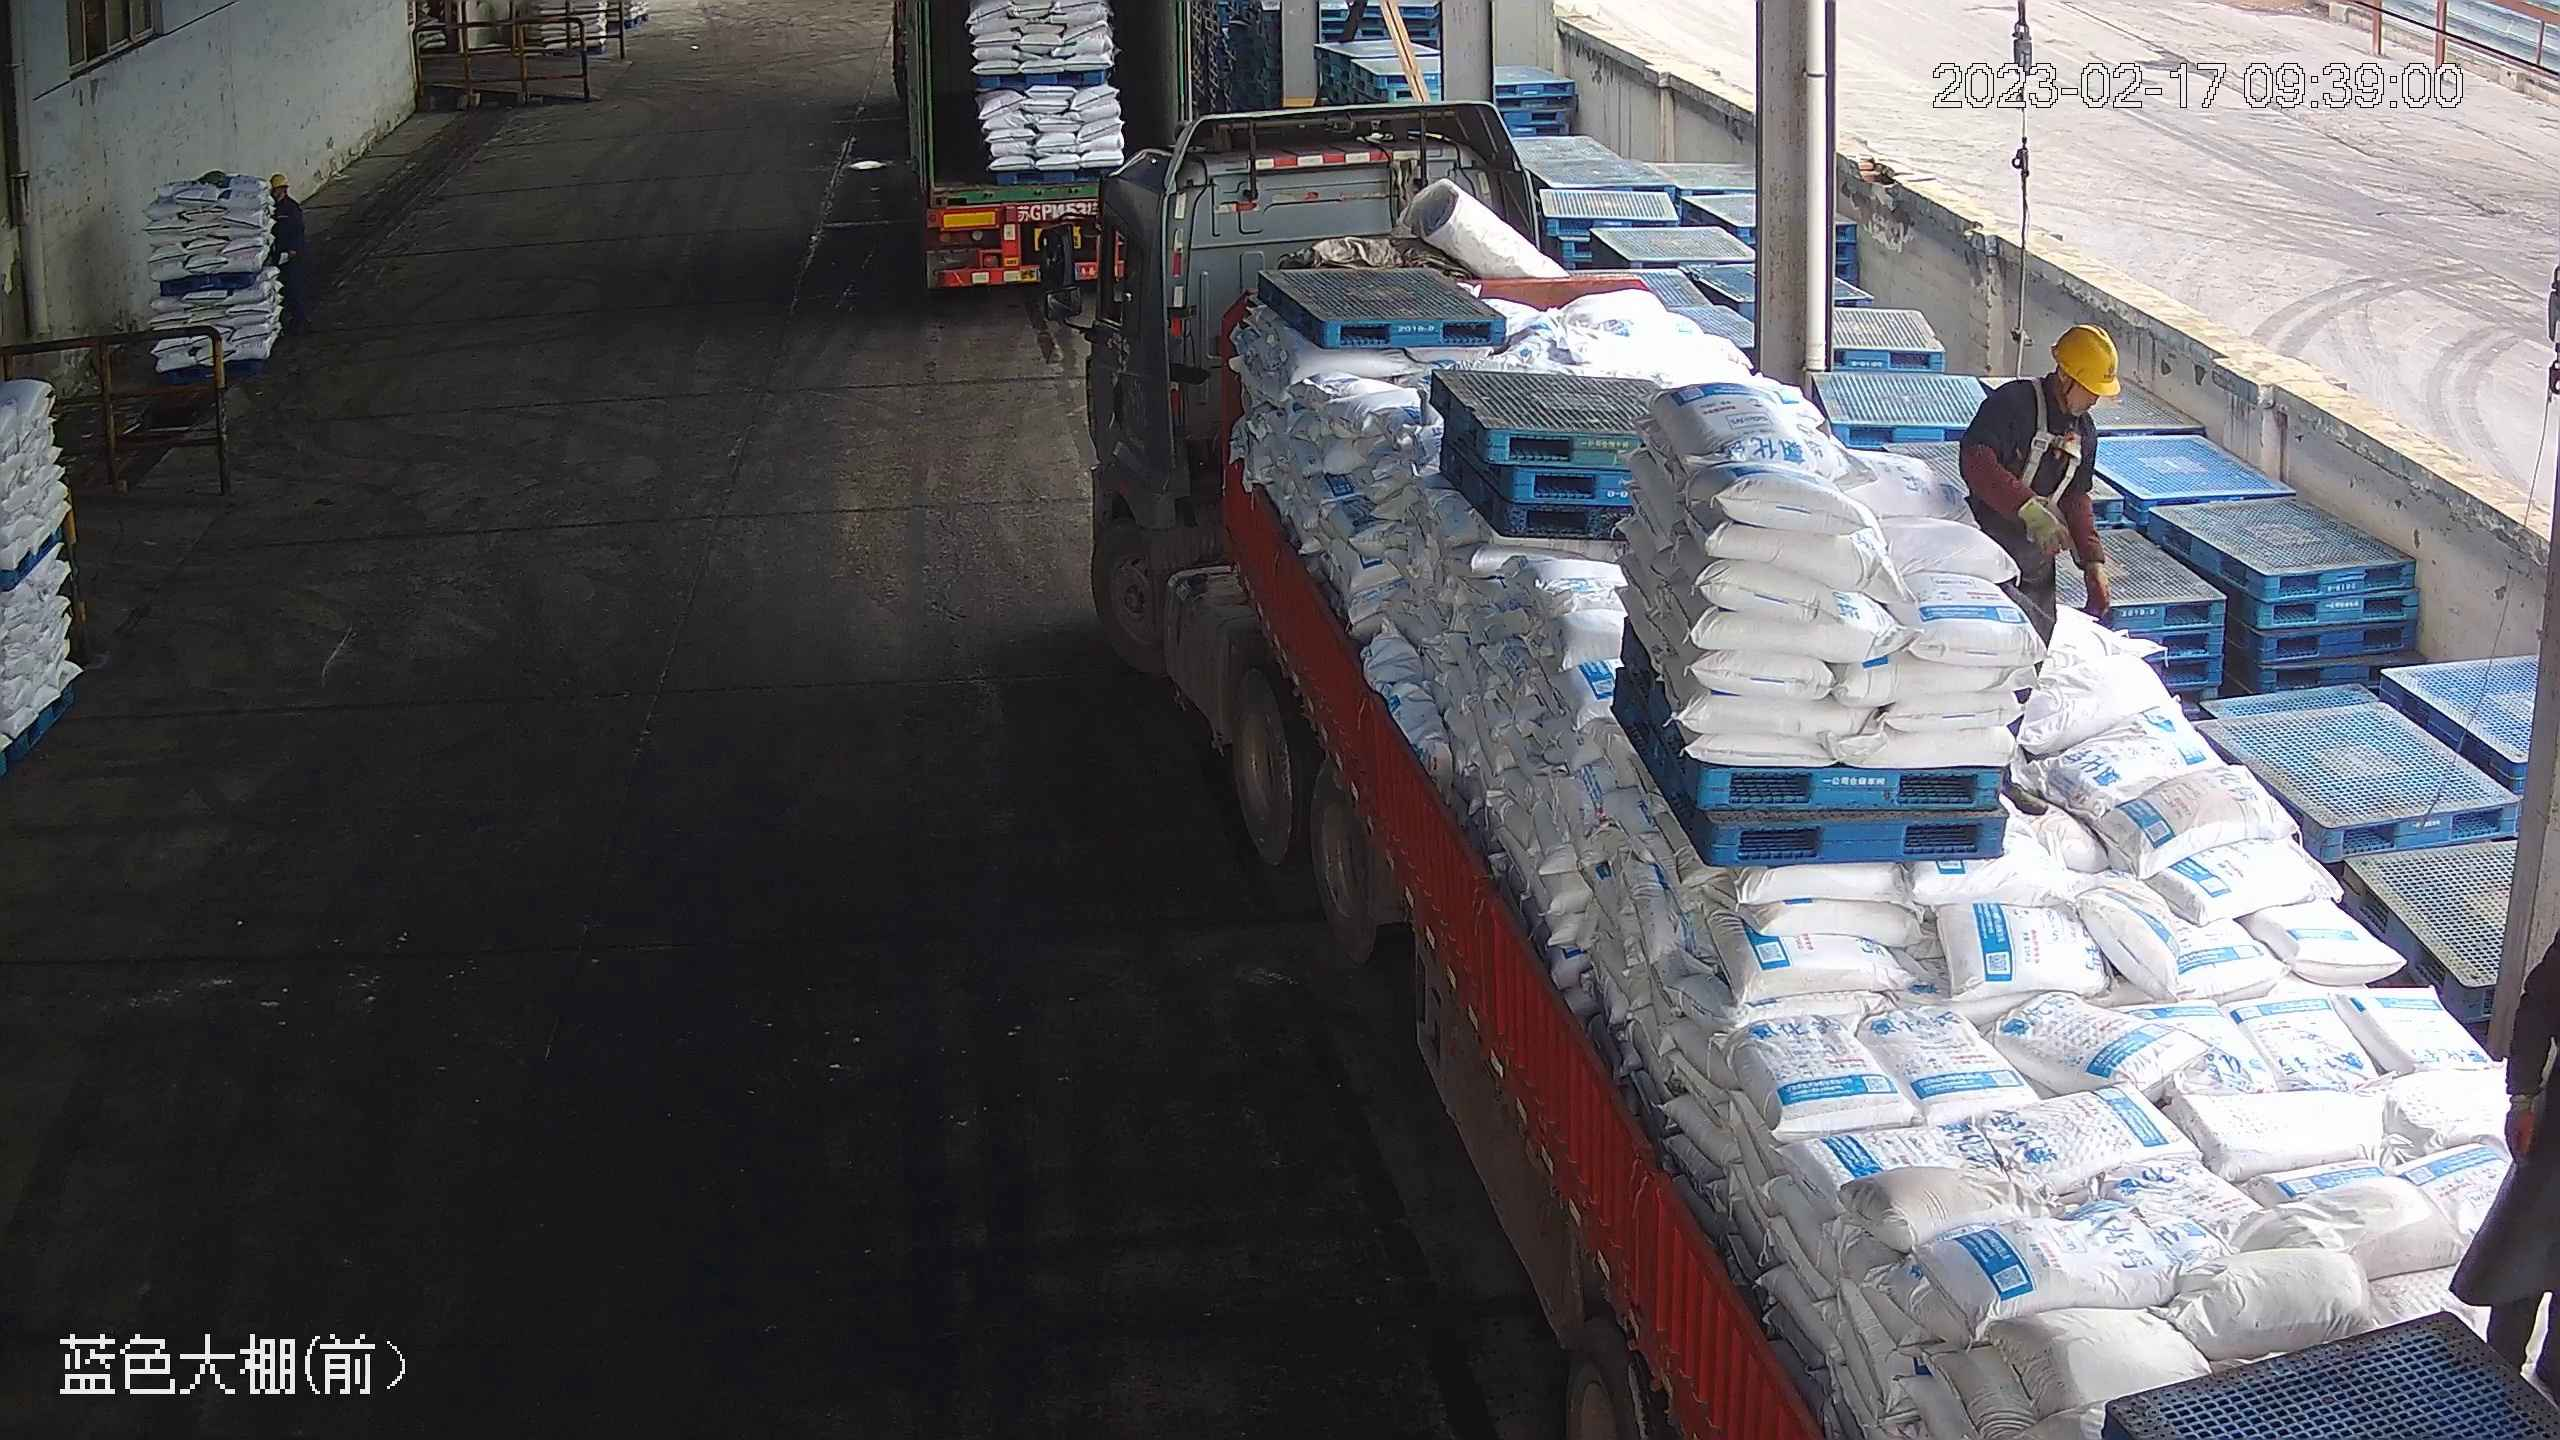belt: (2011, 379, 2094, 484)
head: (1984, 322, 2119, 453), (266, 173, 303, 219)
helmet: (2052, 317, 2124, 396), (268, 172, 291, 189)
people: (1957, 321, 2124, 676), (266, 172, 308, 326)
truck: (1038, 99, 2553, 1440), (889, 1, 1186, 289)
